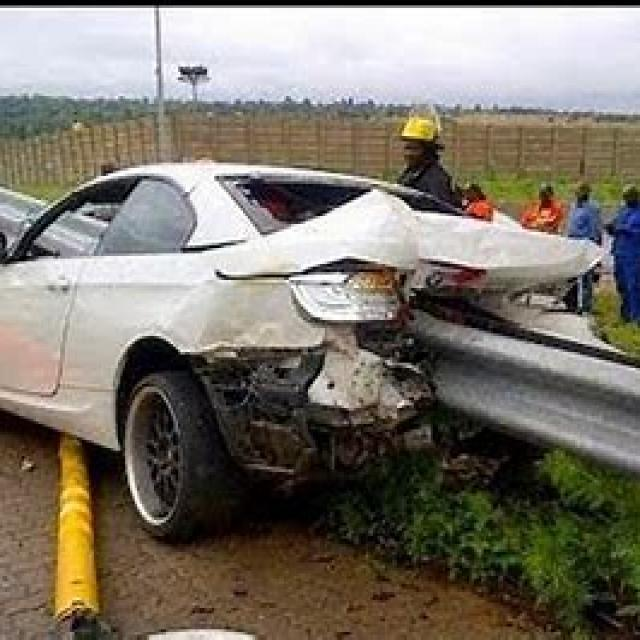Accident: (102, 66, 540, 606)
